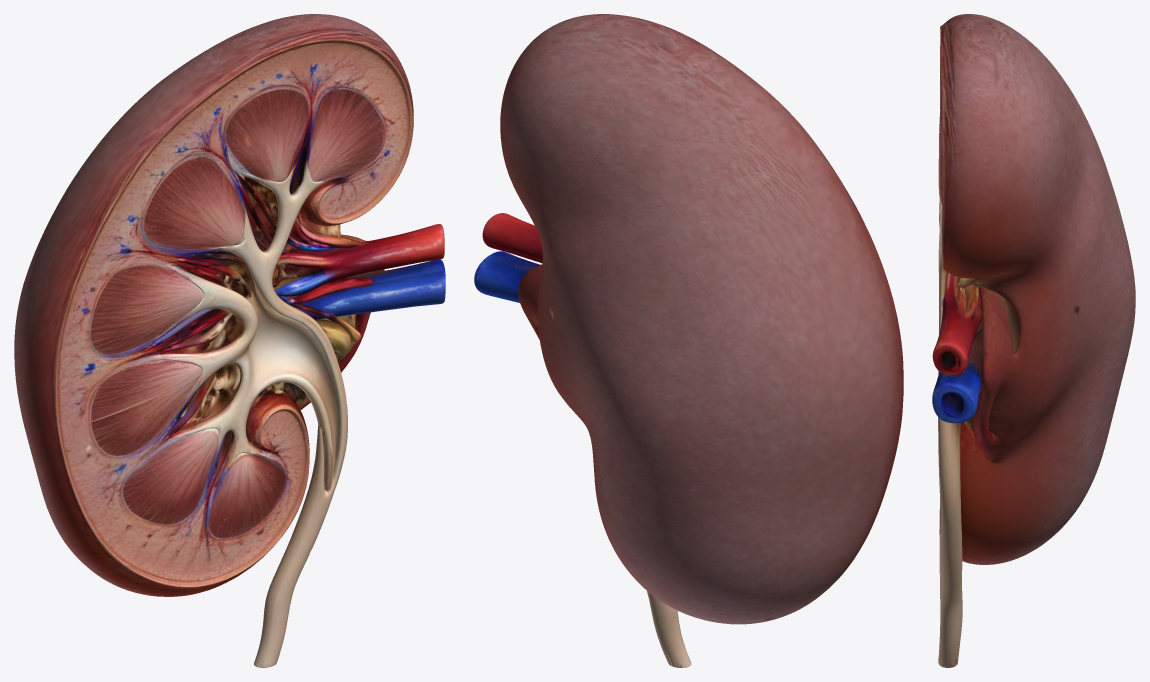
Rendered from kidney.glb.
The picture shows the model from 3 angles, left to right: view 1: azimuth 30°, elevation 25°; view 2: azimuth 150°, elevation 25°; view 3: azimuth 270°, elevation 25°; orthographic projection. The views are drawn at different scales.
Visible parts, largest first — view 1: kidney; view 2: kidney; view 3: kidney.
Part boxes in pixels (x1,y1,x2,y2): kidney: (14,14,445,667); kidney: (474,14,903,667); kidney: (932,14,1135,667).
Bounding box in the file's own units: 0.7873 × 1.14 × 0.3261.
1 material, 1 textured.
